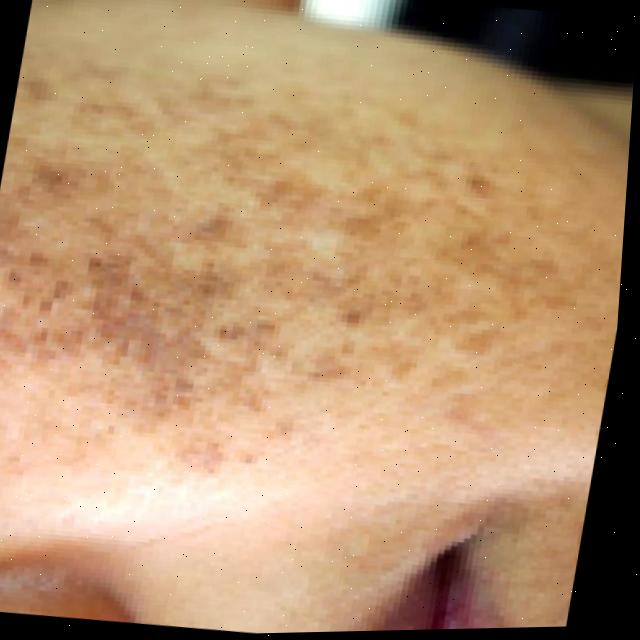Melasma: (0, 85, 515, 498)
